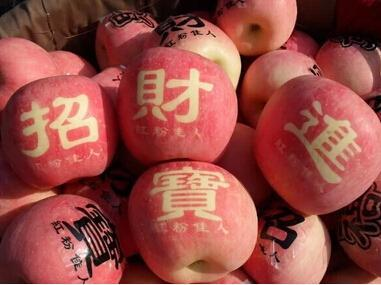apple: (252, 76, 379, 226), (120, 164, 257, 278), (115, 49, 236, 168), (3, 69, 119, 190), (1, 194, 125, 282), (238, 202, 333, 281), (237, 49, 321, 128), (158, 15, 242, 81), (218, 121, 274, 208), (215, 1, 298, 56), (314, 34, 380, 100), (1, 38, 56, 111), (94, 11, 163, 68)
